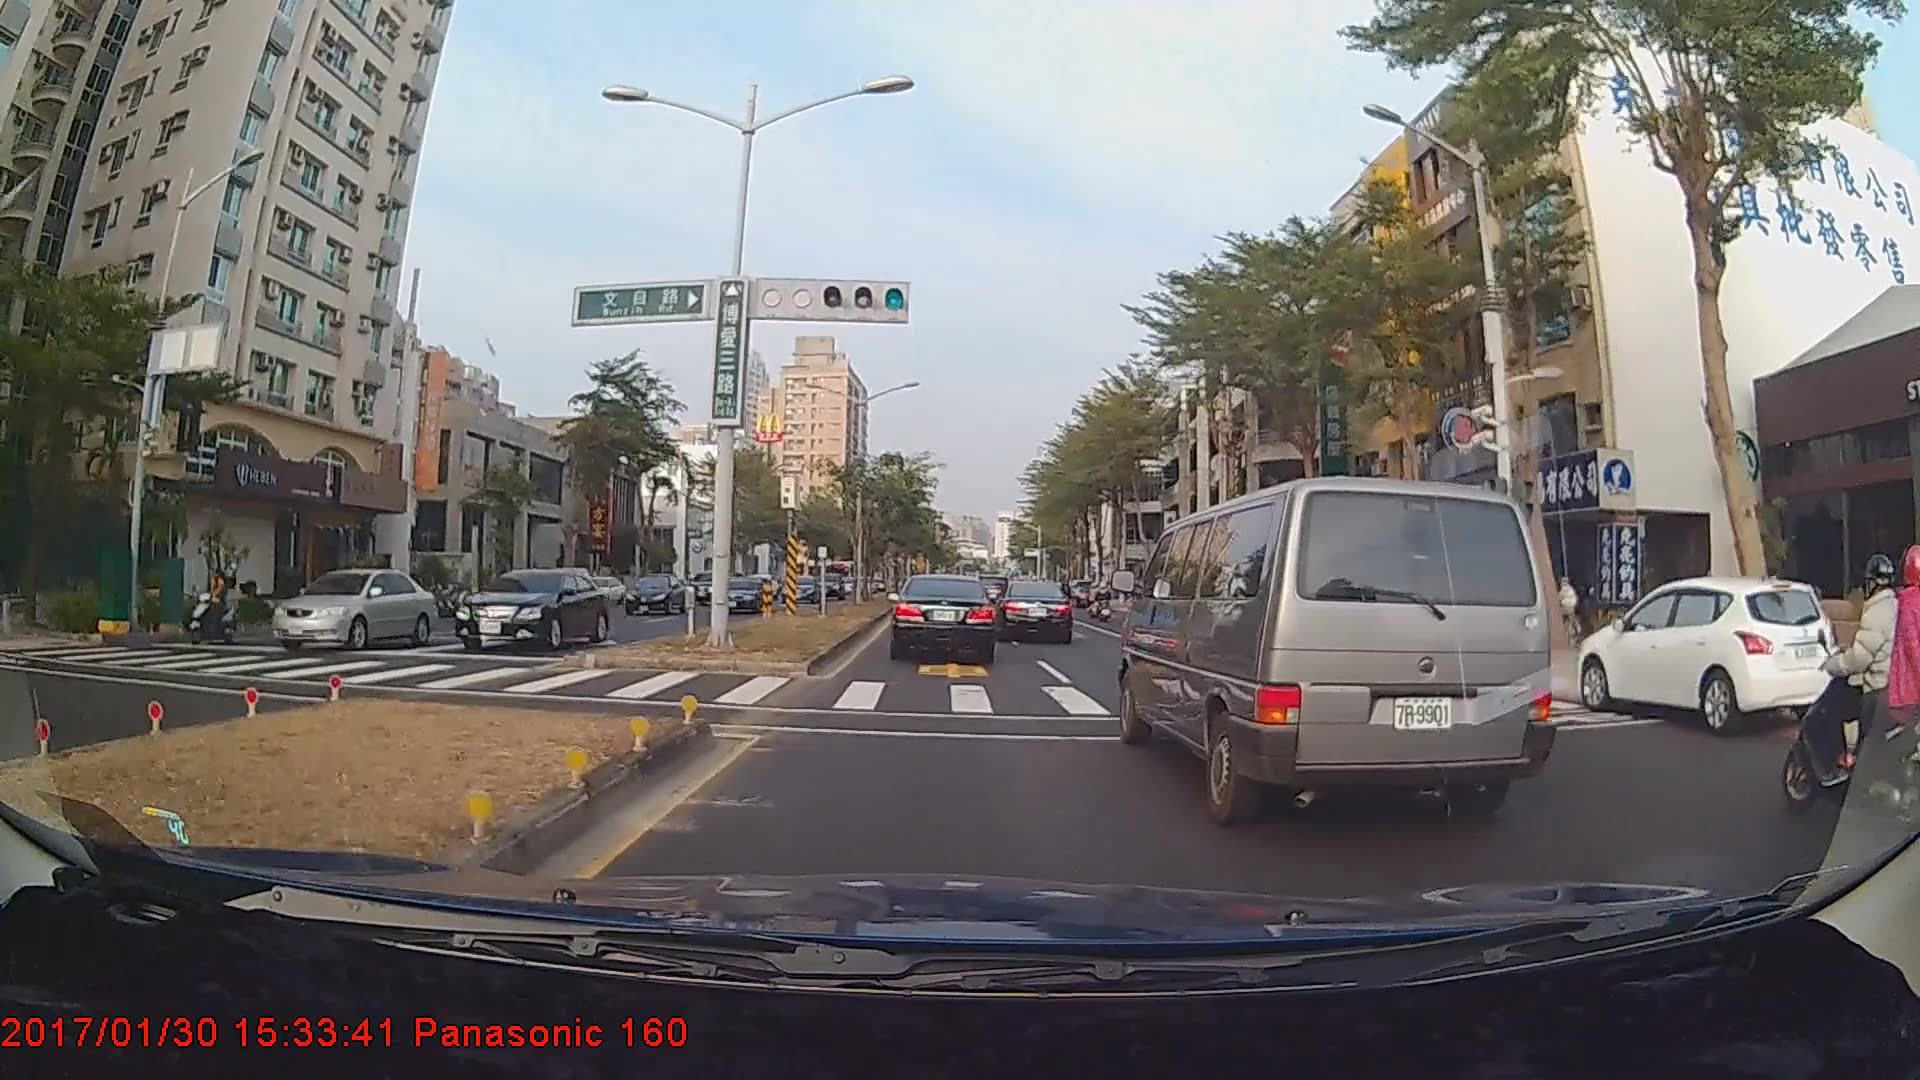rider: (1780, 555, 1919, 817), (185, 567, 243, 645)
vehicle: (1121, 466, 1556, 820), (1580, 577, 1834, 729), (268, 568, 436, 654), (452, 566, 610, 650), (890, 574, 999, 664), (997, 579, 1073, 644), (622, 574, 687, 616), (713, 574, 766, 611), (779, 573, 819, 603)
